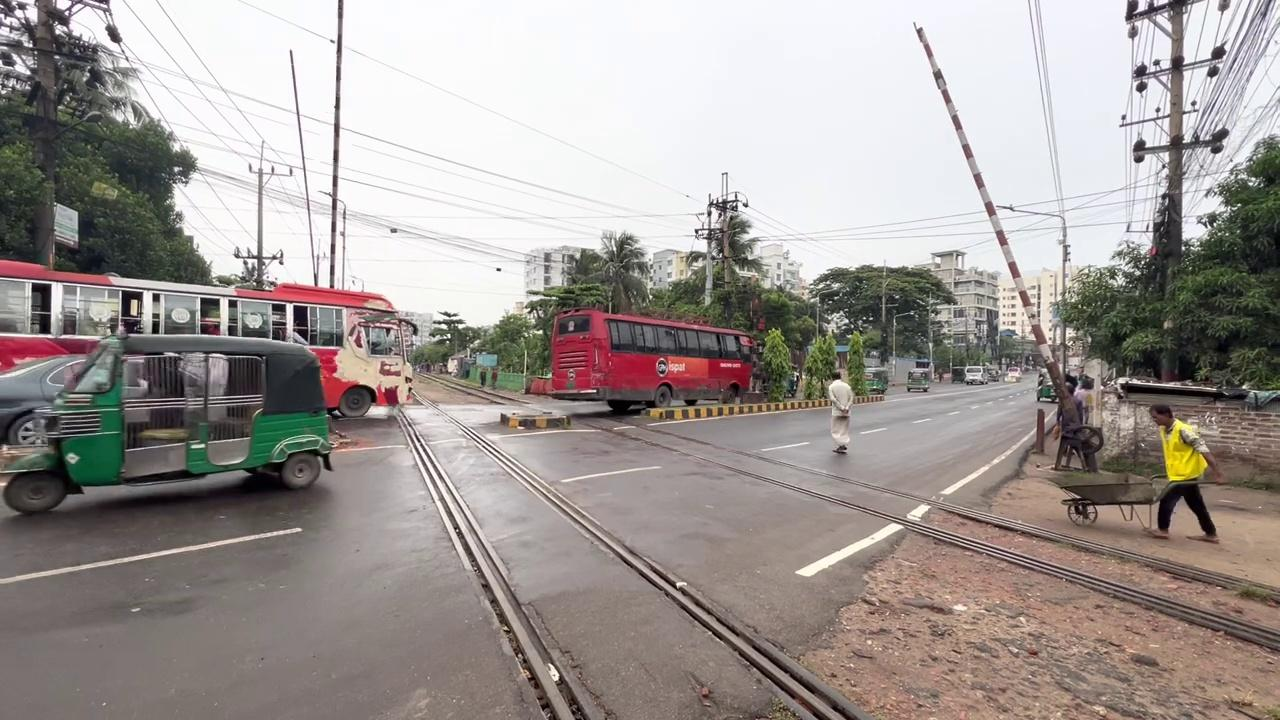Fence: (1146, 403, 1227, 543), (827, 369, 853, 453)
Garbage: (913, 21, 1092, 470), (326, 0, 344, 289)
Motorcycle: (393, 373, 1278, 717)
Railroad-crossing: (585, 228, 650, 313), (759, 326, 790, 402)
Rickshaw: (0, 259, 417, 419), (1, 331, 335, 514)
